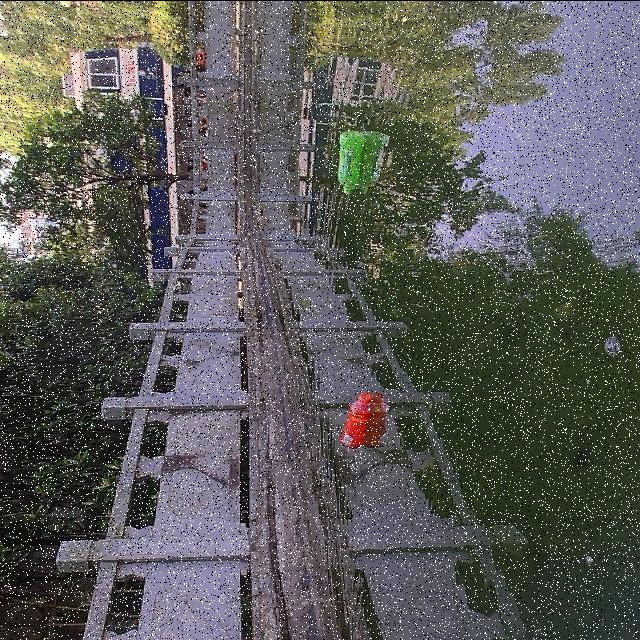Bottle: (335, 384, 381, 452), (334, 123, 374, 199)
